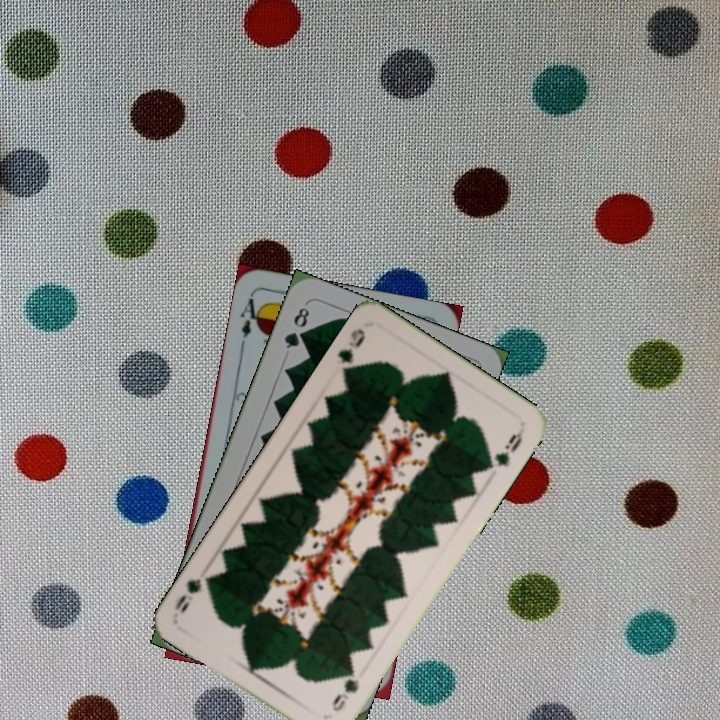EA: (236, 291, 265, 341)
G8: (280, 301, 312, 351)
G9: (333, 324, 368, 380), (327, 663, 362, 715)
